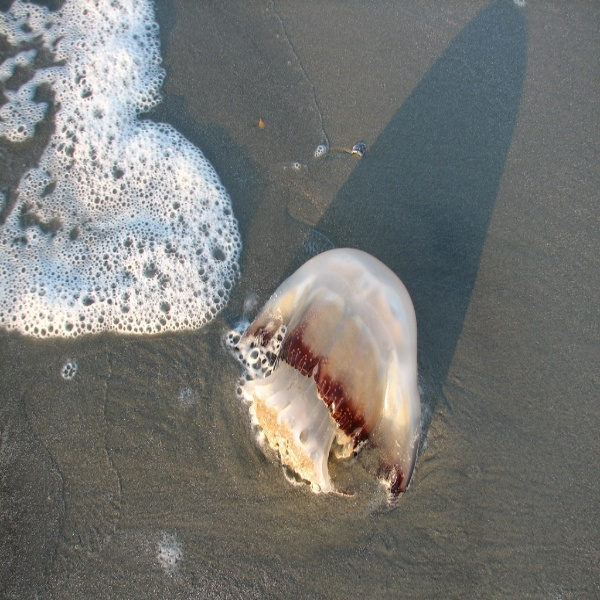Jellyfish: (227, 252, 430, 501)
